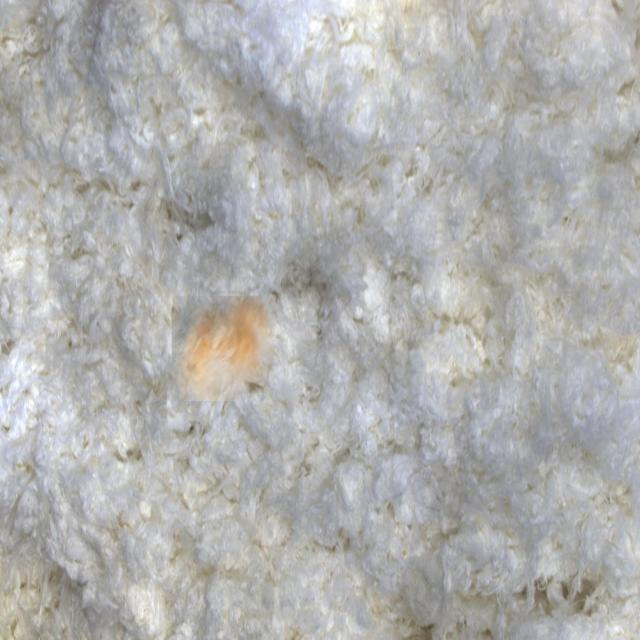dust: (172, 296, 275, 401)
